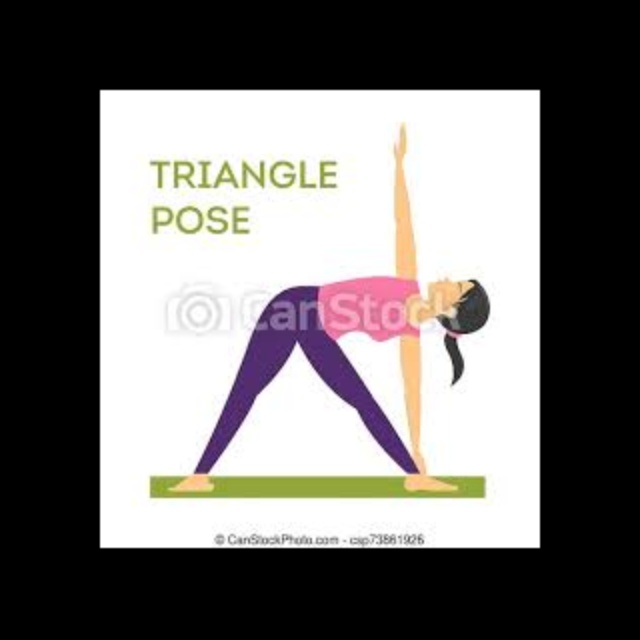Triangle_Pose: (143, 121, 491, 508)
